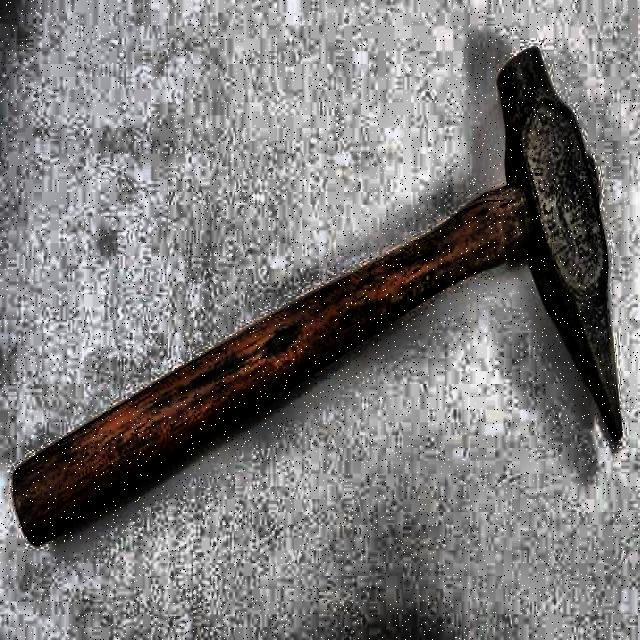hammer: (16, 47, 624, 549)
